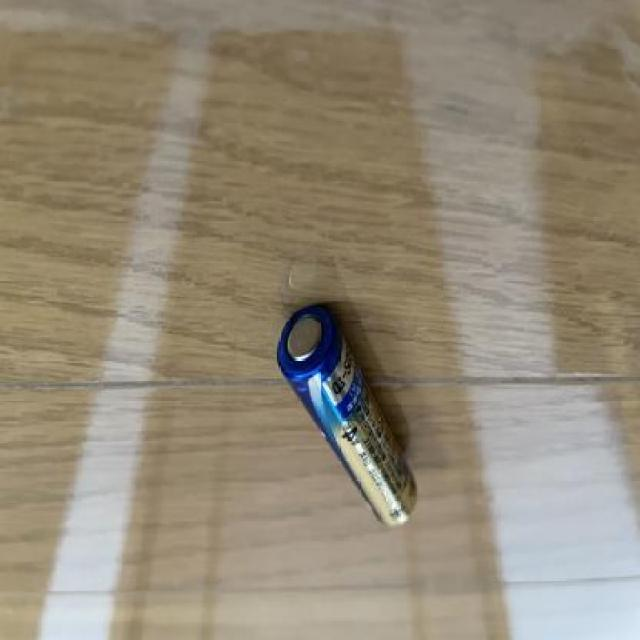hazardous waste: (271, 306, 420, 526)
